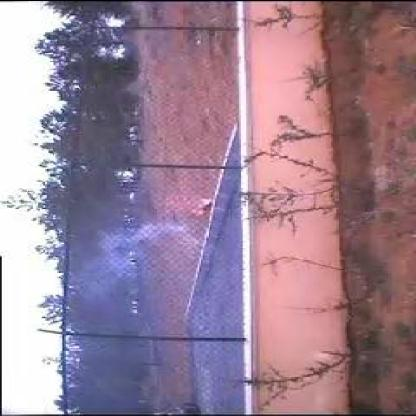-: (66, 214, 244, 335)
